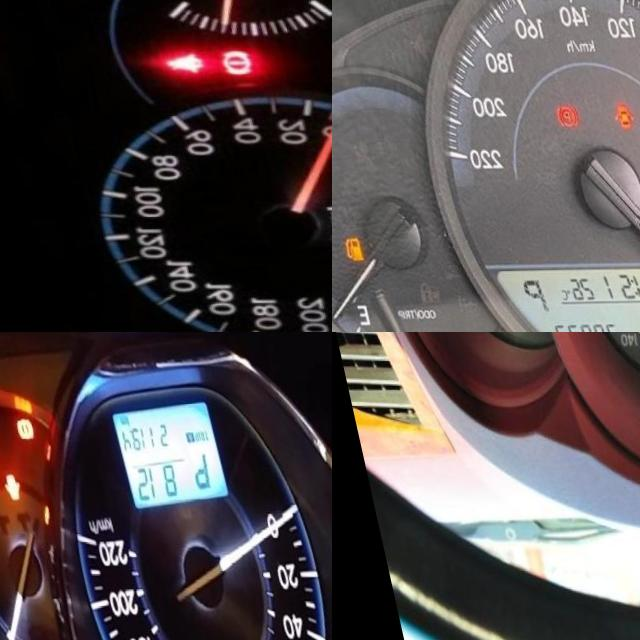Seat Belt: (154, 55, 194, 75), (628, 127, 640, 164)
